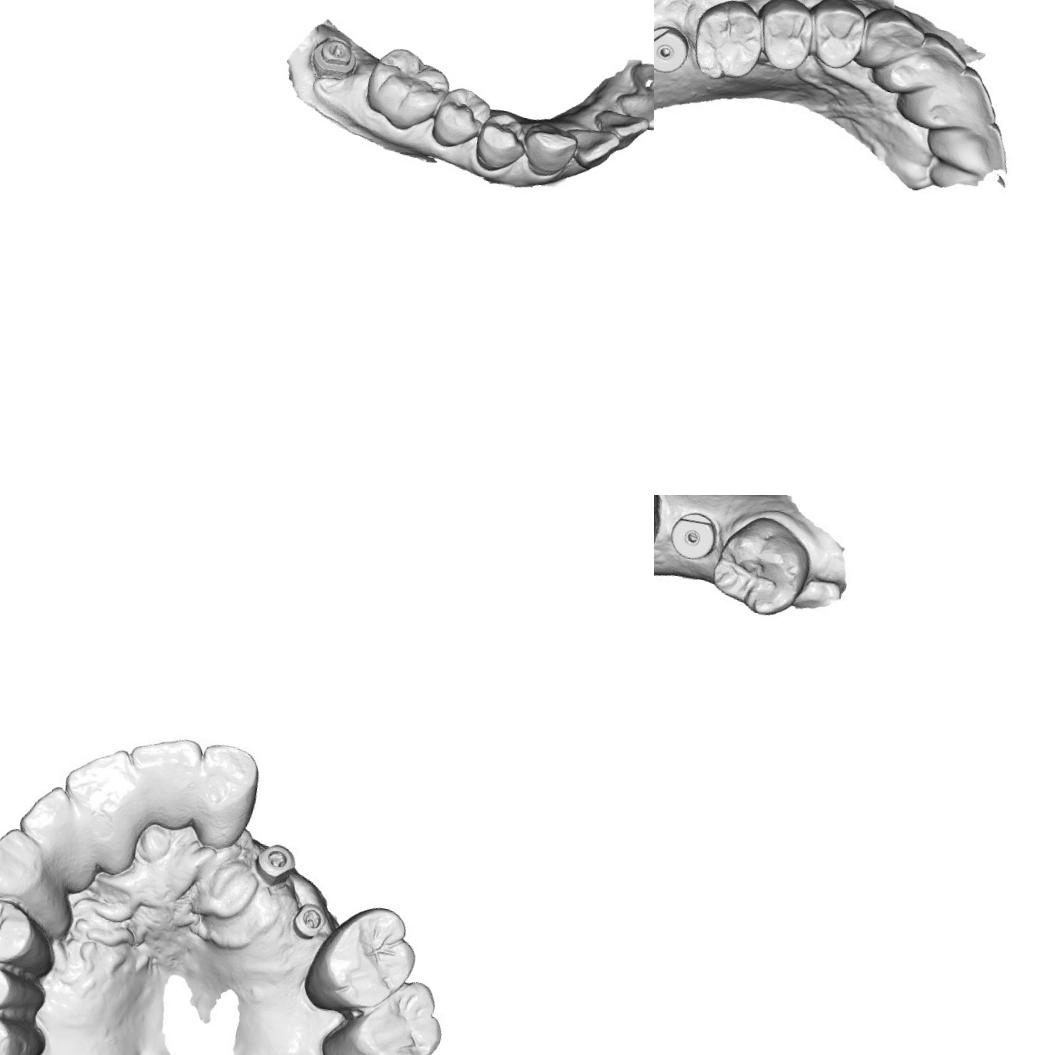canine: (0, 823, 89, 943), (852, 3, 928, 79), (517, 118, 581, 182)
implant: (665, 503, 719, 571), (286, 894, 337, 950), (253, 838, 301, 890), (654, 18, 691, 79)
implant_minus: (302, 30, 362, 84)
incisor: (48, 743, 152, 877), (121, 729, 213, 842), (10, 781, 103, 892), (866, 22, 973, 112), (894, 60, 1006, 142), (188, 740, 268, 853), (917, 115, 1010, 184), (588, 105, 649, 151), (570, 124, 622, 173), (619, 83, 654, 132), (630, 53, 654, 96)
molar: (307, 896, 425, 1022), (705, 509, 815, 623), (318, 969, 447, 1055), (358, 42, 454, 138), (689, 0, 771, 85), (0, 1008, 39, 1055)
premolar: (0, 895, 67, 977), (428, 80, 494, 154), (806, 0, 869, 73), (470, 108, 533, 176), (755, 0, 816, 70), (0, 953, 53, 1023)
